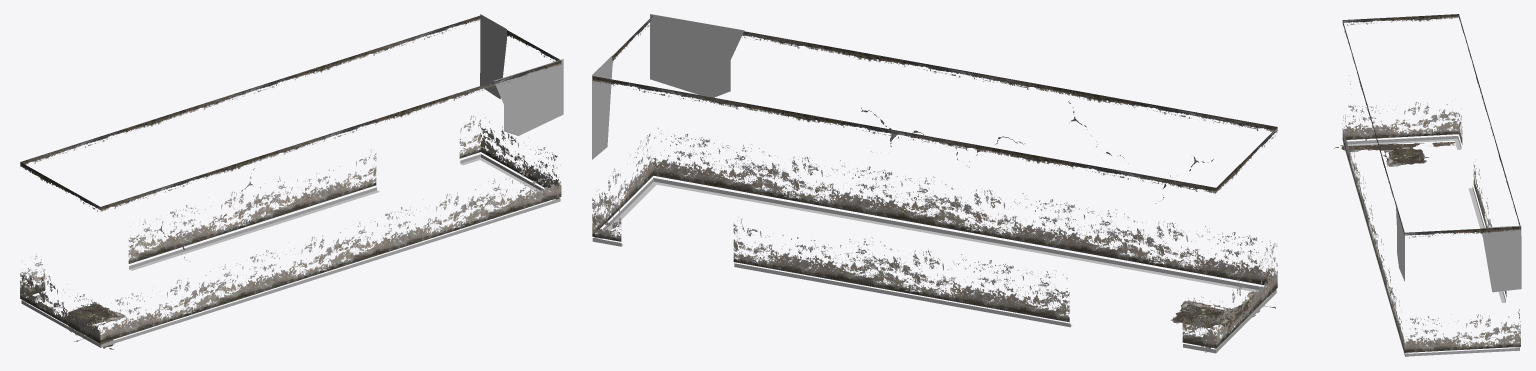
The model's file is Ind_IntDecals.FBX.
3 renders of one model, left to right at view 1: azimuth 30°, elevation 25°; view 2: azimuth 150°, elevation 25°; view 3: azimuth 270°, elevation 25°, orthographic. The views are drawn at different scales.
Visible parts, largest first — view 1: Ind_IntDecals; view 2: Ind_IntDecals; view 3: Ind_IntDecals.
Part boxes in pixels (left/top/right/bottom): Ind_IntDecals: left=20, top=14, right=563, bottom=349; Ind_IntDecals: left=592, top=14, right=1277, bottom=353; Ind_IntDecals: left=1334, top=14, right=1521, bottom=356.
Size of the model in its own units: 1608 by 424 by 591.
